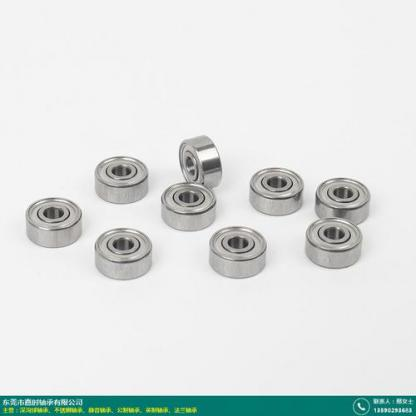FOD: (202, 222, 269, 282), (88, 226, 156, 284), (20, 194, 84, 251), (302, 218, 364, 271), (90, 154, 150, 208), (174, 132, 227, 192), (160, 181, 219, 234), (245, 166, 304, 218), (312, 176, 370, 223)
